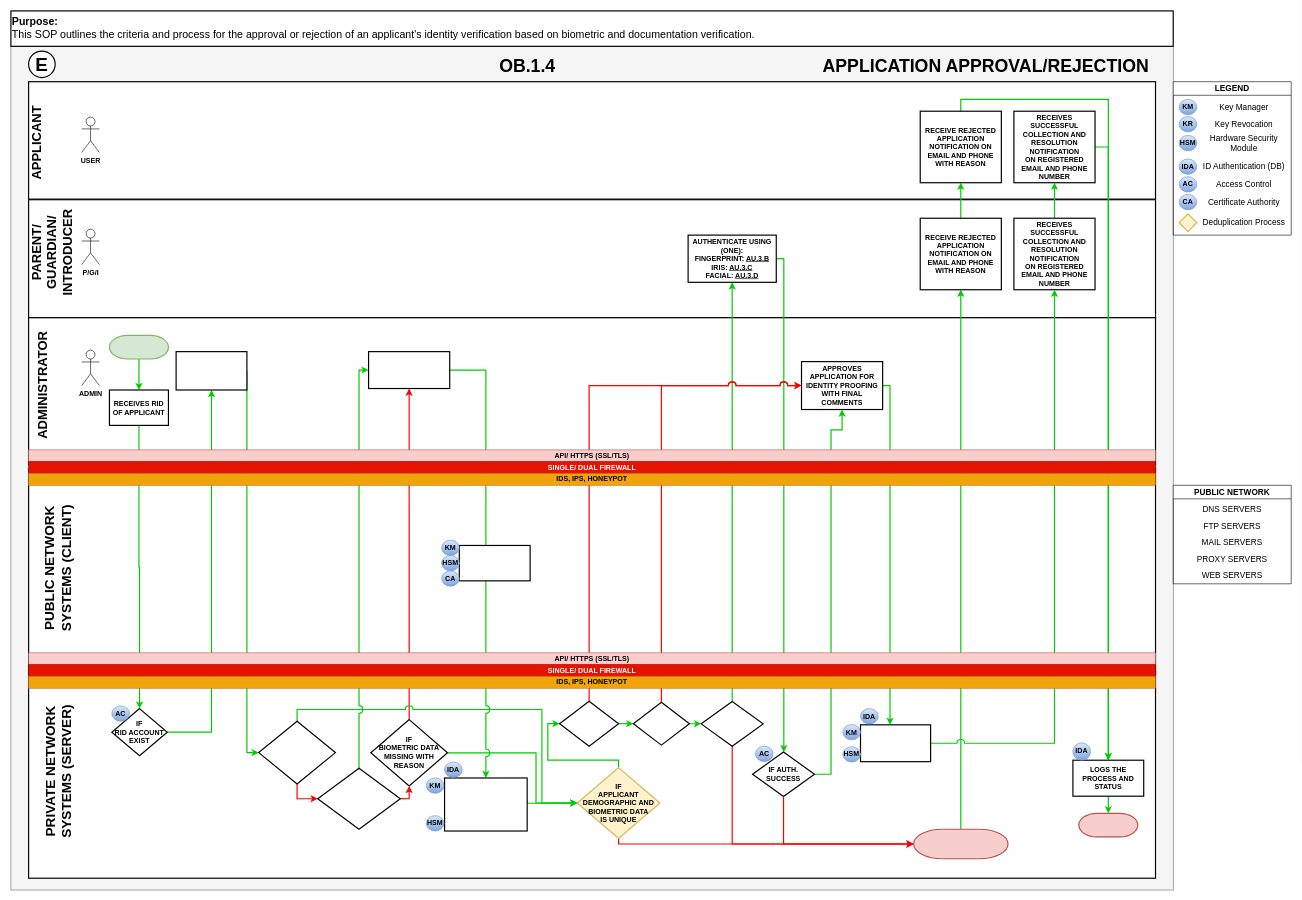
Some shapes in this 1302 by 900 pixel diagram are drawn without their labels. The centre of each missing label's shape, as x and y in pixels:
"CHECK COMPLETENESS OF APPLICANT DATA" goes at (211,370).
"END" goes at (1108,824).
"FILLS APPROPRIATE REASON FOR MISSING BIOMETRIC DATA" goes at (409,370).
"IF ALL BIOMETRIC DATA OF APPLICANT CAPTURED" goes at (297,752).
"IF APPLYING WITH P/G/I" goes at (589,723).
"IF ATLEAST ONE BIOMETRIC DATA OF APPLICANT CAPTURED" goes at (359,798).
"IF P/G/I UIN/RID NEEDED" goes at (661,723).
"IF P/G/I UIN/RID PROVIDED" goes at (731,723).
"MASK & ENCRYPT BIOMETRIC MISSING REASON" goes at (494,563).
"START" goes at (139,347).
"STORE APPROVAL STATUS AND NOTIFY APPLICANT" goes at (895,743).
"STORES SPECIAL CASE REASON FOR MISSING BIOMETRIC DATA IN RID ACCOUNT" goes at (485,804).
"TERMINATE PROCESS: REJECT APPLICATION" goes at (960,843).
